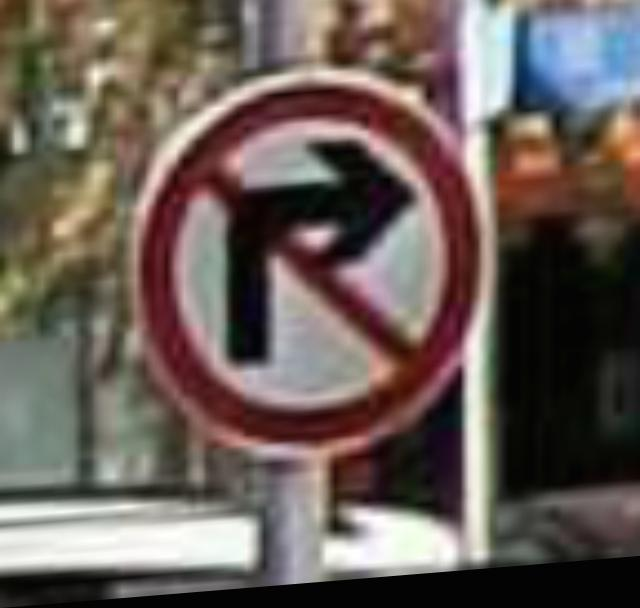not_turn_right: (137, 66, 495, 475)
